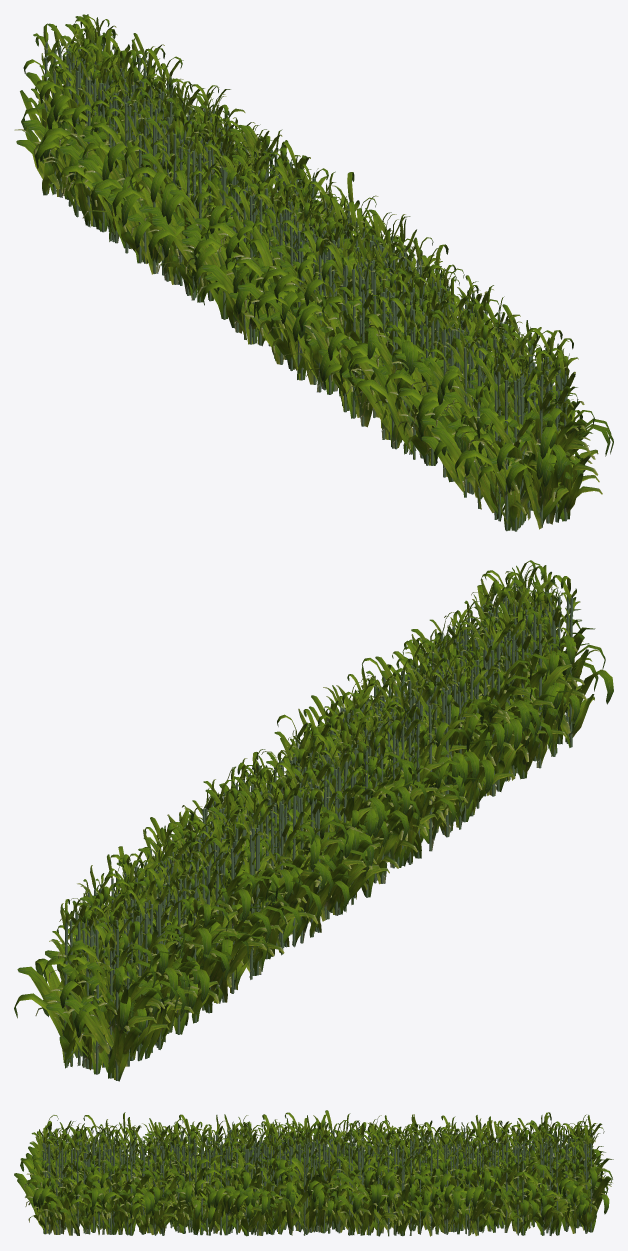
File: milharal4x50_denso2.fbx
3 views of the same model, one above another, from view 1: azimuth 30°, elevation 25°; view 2: azimuth 150°, elevation 25°; view 3: azimuth 270°, elevation 25° (orthographic). The views are drawn at different scales.
Parts seen in each view (by area): view 1: Plantacao2; view 2: Plantacao2; view 3: Plantacao2.
Part boxes in pixels (bbox=[...]): Plantacao2: bbox=[14, 14, 613, 531]; Plantacao2: bbox=[14, 560, 613, 1081]; Plantacao2: bbox=[14, 1110, 613, 1236].
Size of the model in its own units: 941 by 1058 by 5428.
